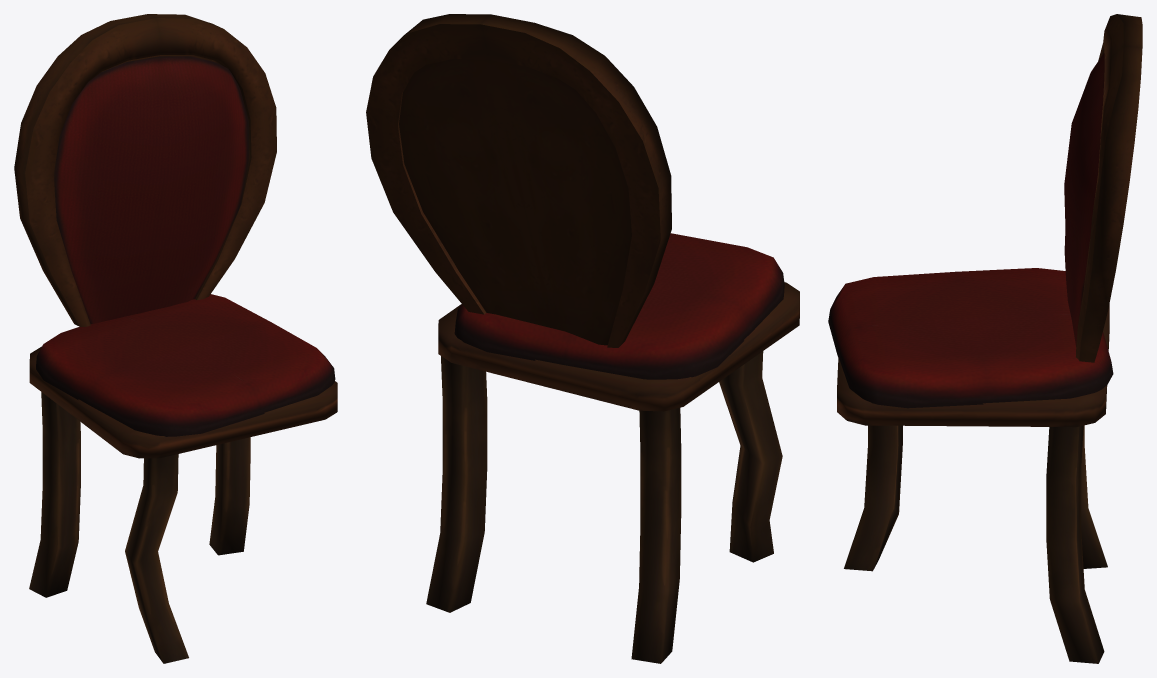
File: BrokenChair.fbx
3 renders of one model, left to right at view 1: azimuth 30°, elevation 25°; view 2: azimuth 150°, elevation 25°; view 3: azimuth 270°, elevation 25°, orthographic. The views are drawn at different scales.
Visible parts, largest first — view 1: Chair_Backing_A2, Chair_Cushion_Base_A1, Chair_Legs_A1, Chair_Base_A1; view 2: Chair_Backing_A2, Chair_Legs_A1, Chair_Cushion_Base_A1, Chair_Base_A1; view 3: Chair_Cushion_Base_A1, Chair_Backing_A2, Chair_Legs_A1, Chair_Base_A1.
Boxes of the visible parts, x1,y1,x2,y2 form: Chair_Backing_A2: (14, 14, 276, 326); Chair_Cushion_Base_A1: (36, 294, 335, 436); Chair_Legs_A1: (29, 392, 250, 663); Chair_Base_A1: (29, 346, 337, 458); Chair_Backing_A2: (366, 14, 671, 347); Chair_Legs_A1: (426, 351, 782, 663); Chair_Cushion_Base_A1: (454, 233, 784, 379); Chair_Base_A1: (438, 282, 799, 411); Chair_Cushion_Base_A1: (828, 268, 1113, 408); Chair_Backing_A2: (1064, 14, 1142, 362); Chair_Legs_A1: (844, 425, 1107, 663); Chair_Base_A1: (837, 304, 1109, 427).
Bounding box in the file's own units: 6.05 × 11.8 × 5.76.
